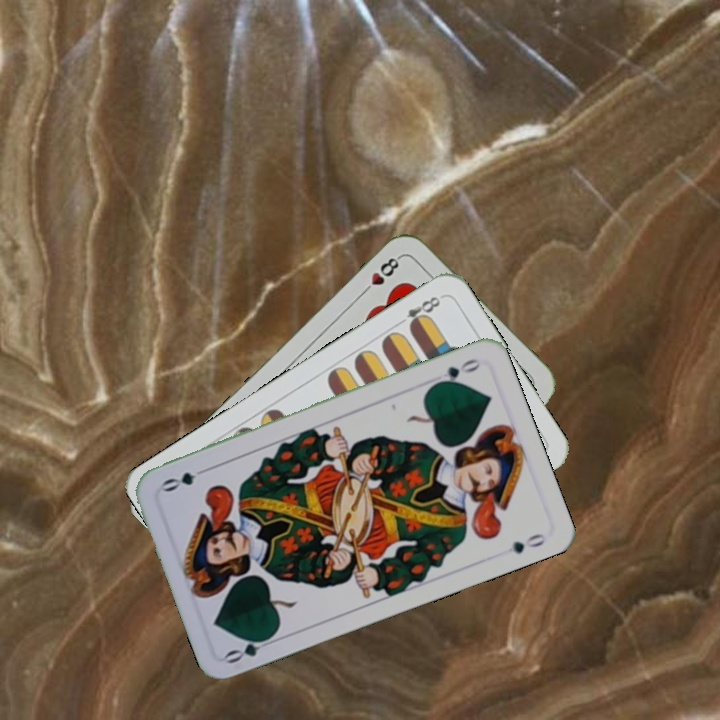E8: (392, 292, 443, 332)
GO: (221, 630, 279, 667), (429, 354, 484, 389)
H8: (357, 252, 404, 298)
